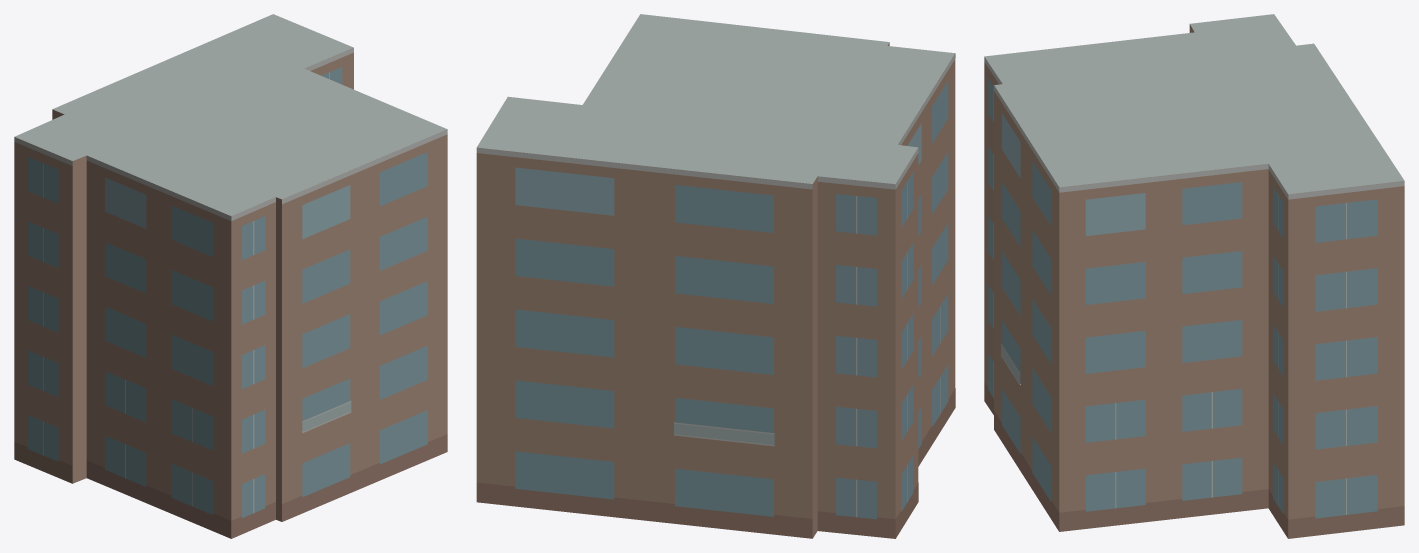
File: survey-upis-32580375.glb
3 views of the same model, side by side, from view 1: azimuth 30°, elevation 25°; view 2: azimuth 150°, elevation 25°; view 3: azimuth 270°, elevation 25° (orthographic). The views are drawn at different scales.
Parts seen in each view (by area): view 1: survey-upis-32580375.tmp; view 2: survey-upis-32580375.tmp; view 3: survey-upis-32580375.tmp.
Part boxes in pixels (x1,y1,x2,y2): survey-upis-32580375.tmp: [14, 14, 447, 538]; survey-upis-32580375.tmp: [476, 14, 955, 538]; survey-upis-32580375.tmp: [984, 14, 1404, 538].
Bounding box in the file's own units: 17.92 × 15.95 × 17.65.
